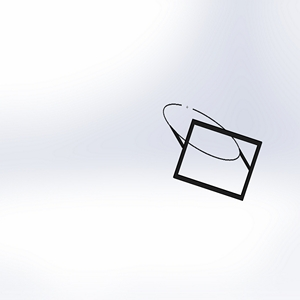circle: (161, 100, 263, 203)
